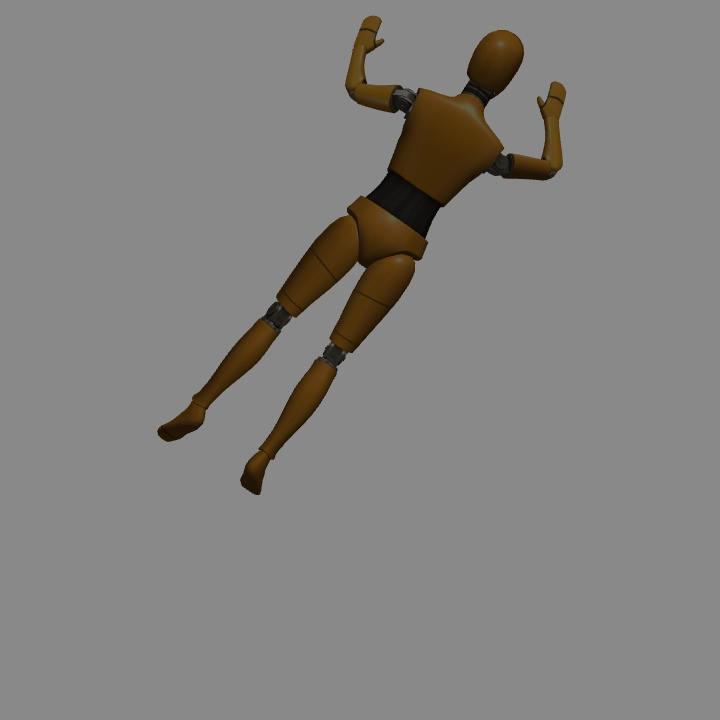victim: (158, 16, 568, 497)
